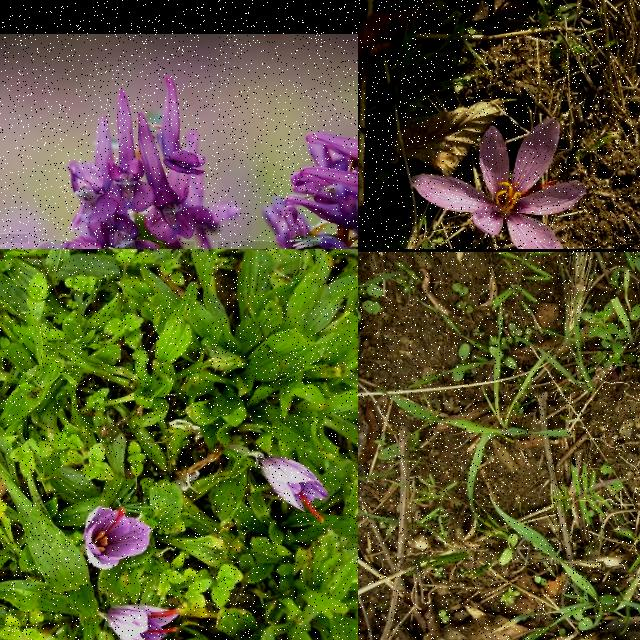flower: (410, 119, 588, 249), (262, 458, 330, 522), (82, 508, 152, 570), (108, 606, 180, 640)
